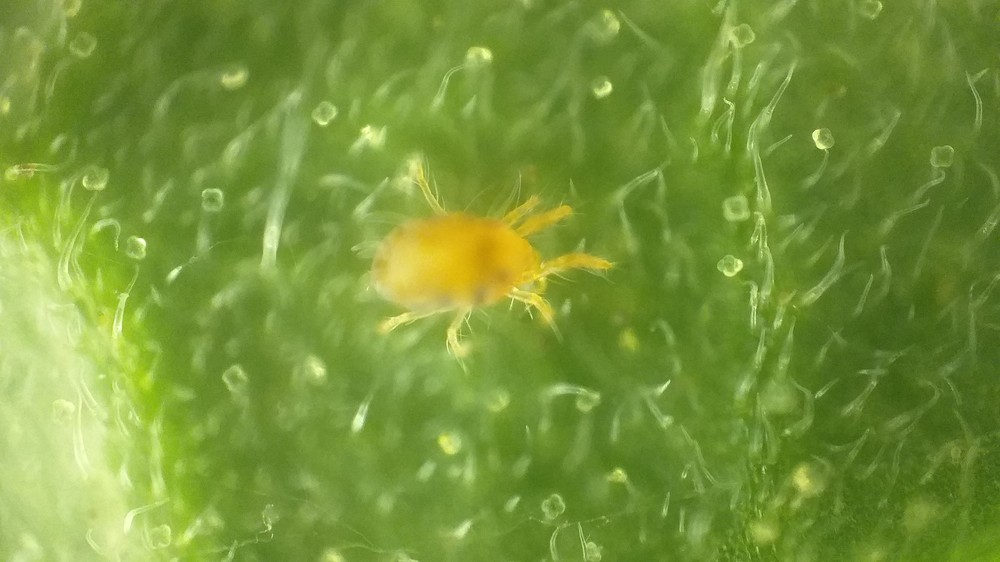Aracnido Rojo: (340, 165, 632, 359)
